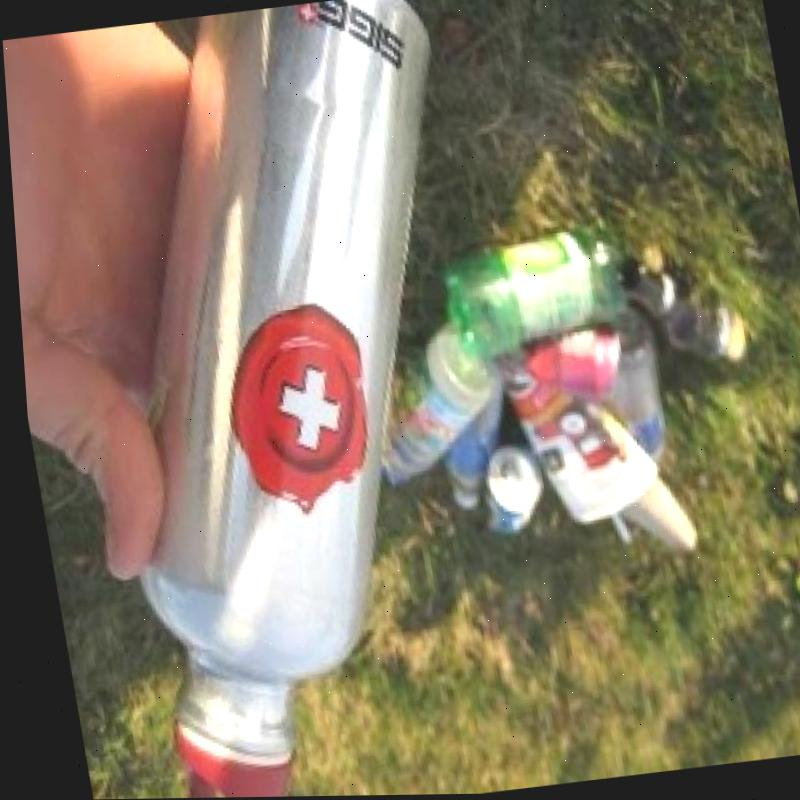botella: (430, 220, 653, 366), (348, 320, 503, 485), (422, 386, 515, 510), (598, 324, 669, 470)
